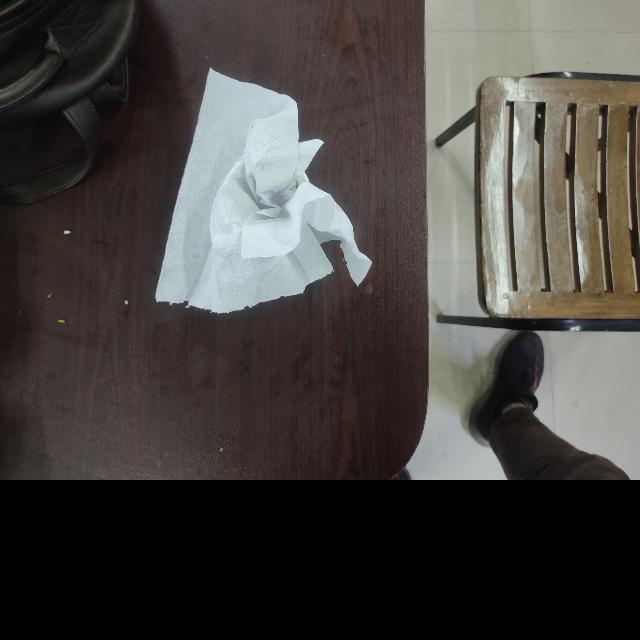kitchen paper: (154, 65, 376, 316)
